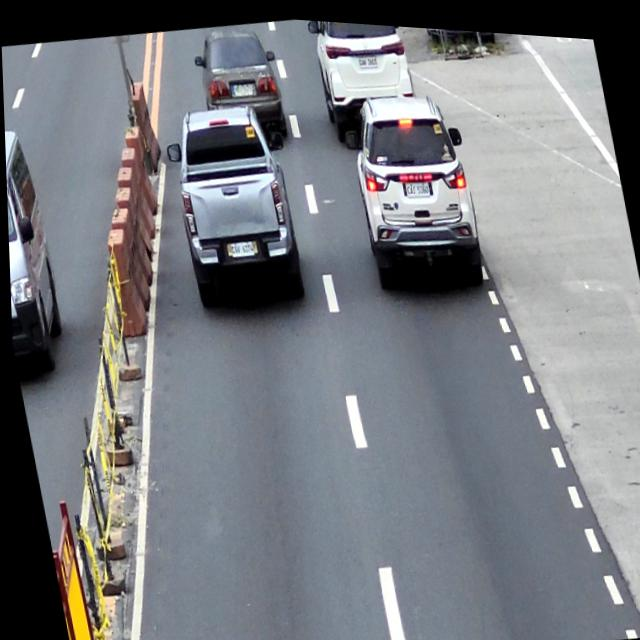Car: (157, 92, 313, 312), (338, 79, 490, 301), (4, 124, 71, 380), (306, 16, 422, 143), (189, 17, 292, 149)
License-Plate: (404, 174, 431, 194), (228, 237, 253, 256), (232, 79, 253, 95), (357, 50, 378, 65)
